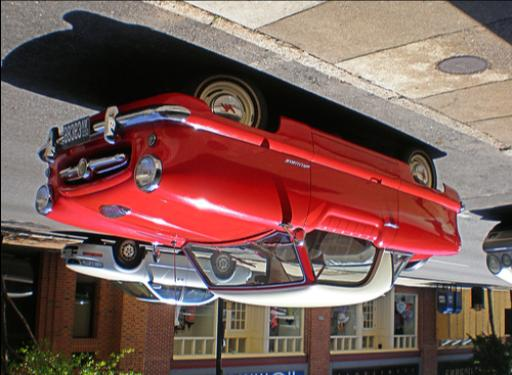Cheetah: (26, 66, 472, 316)
